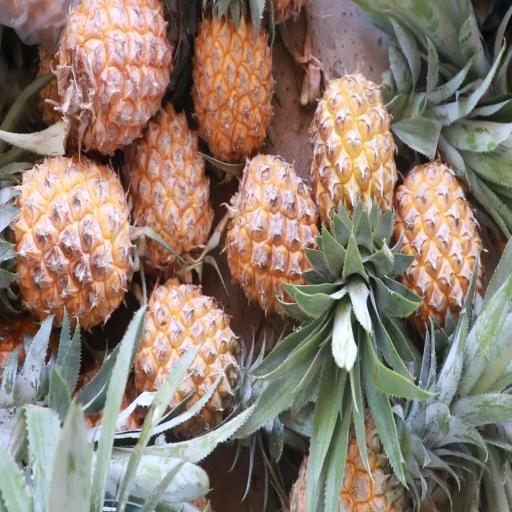Pineapple - v8 v1: (0, 151, 136, 333), (55, 0, 177, 163), (132, 274, 248, 432), (389, 158, 483, 345), (309, 71, 398, 268), (224, 148, 327, 318), (128, 101, 218, 278), (190, 0, 278, 173)
